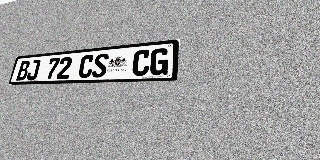plate: (8, 39, 180, 85)
